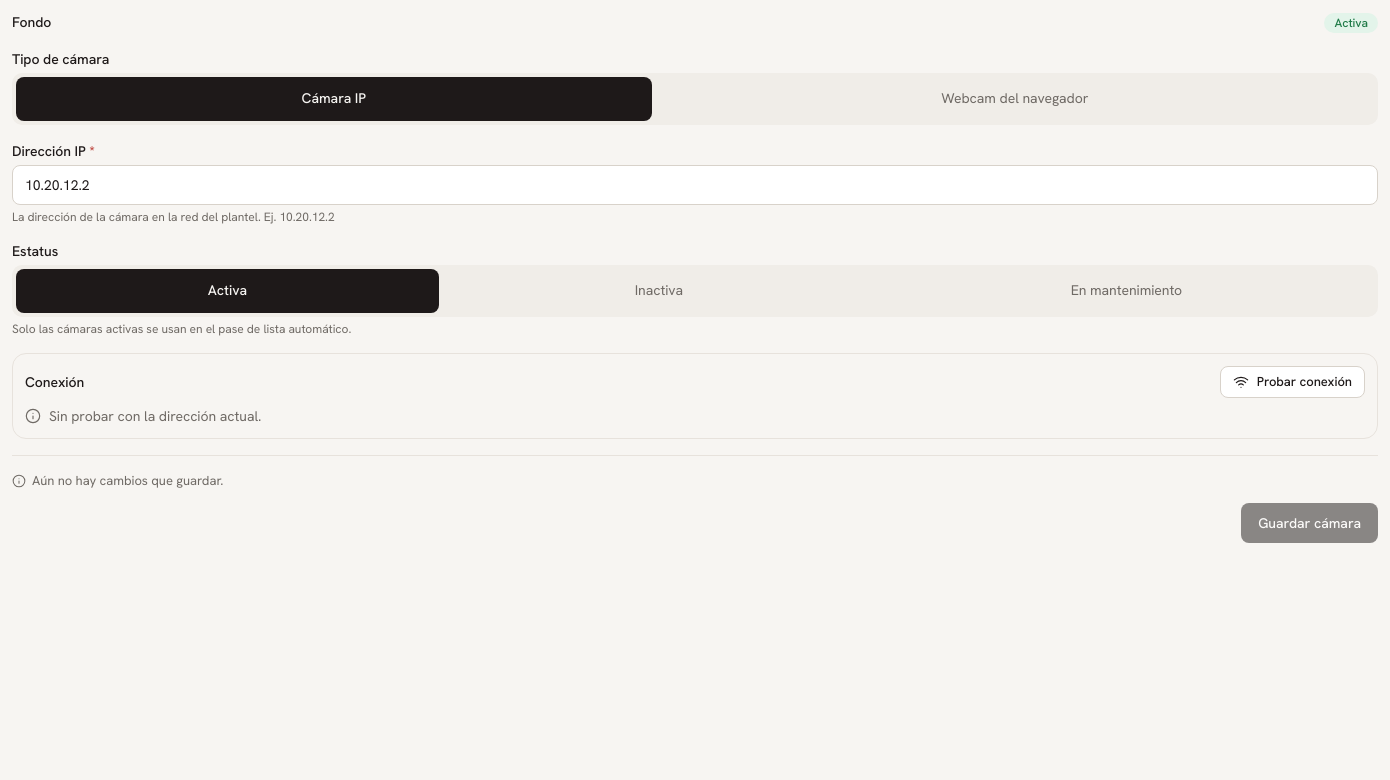
Scenario: CamaraForm › si la cámara no responde lo dice con el motivo y una sugerencia
Click the button "Probar conexión": (1292,382) [1220,366,1365,398]
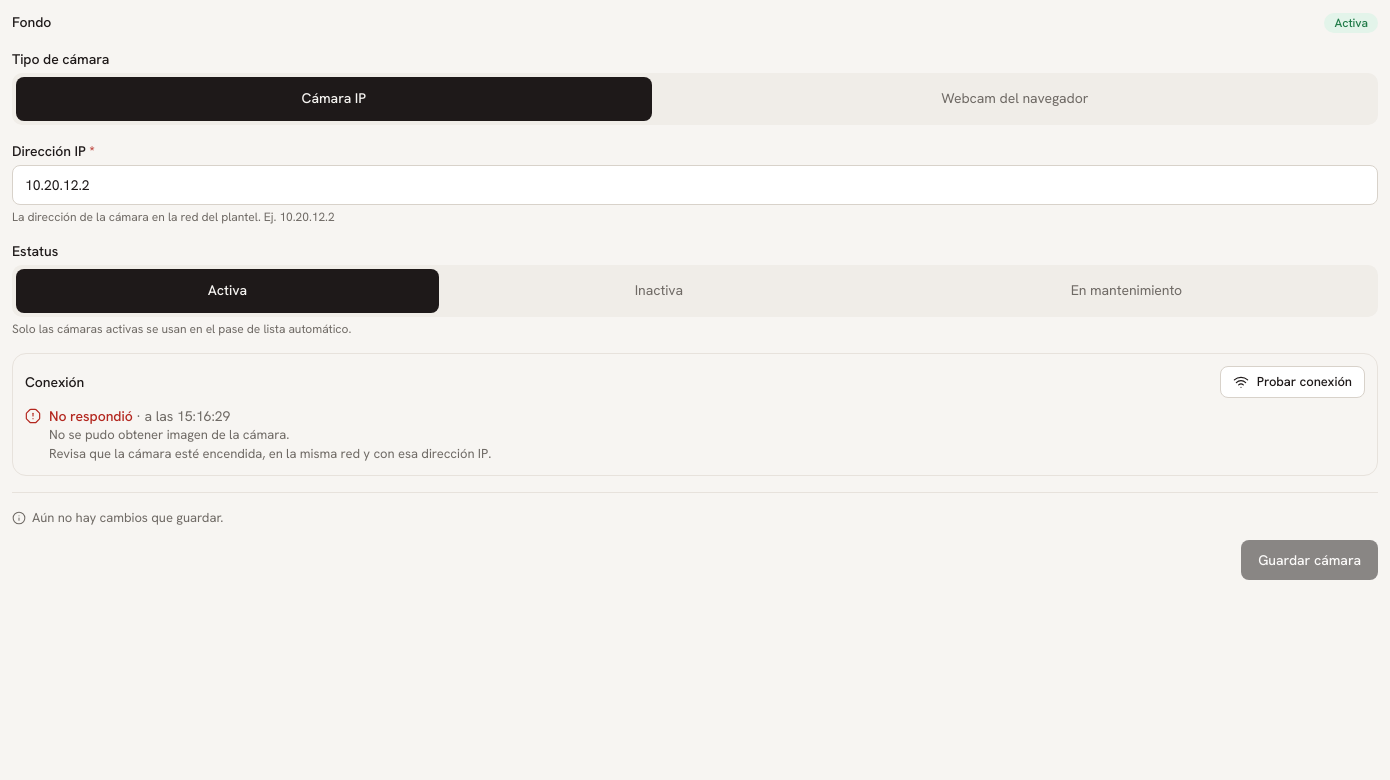
Now the text "No respondió" is shown, box [49,407,133,425]
Now the text "No se pudo obtener imagen de la cámara." is shown, box [49,426,289,443]
Now the text "Revisa que la cámara esté encendida" is shown, box [49,445,491,462]
